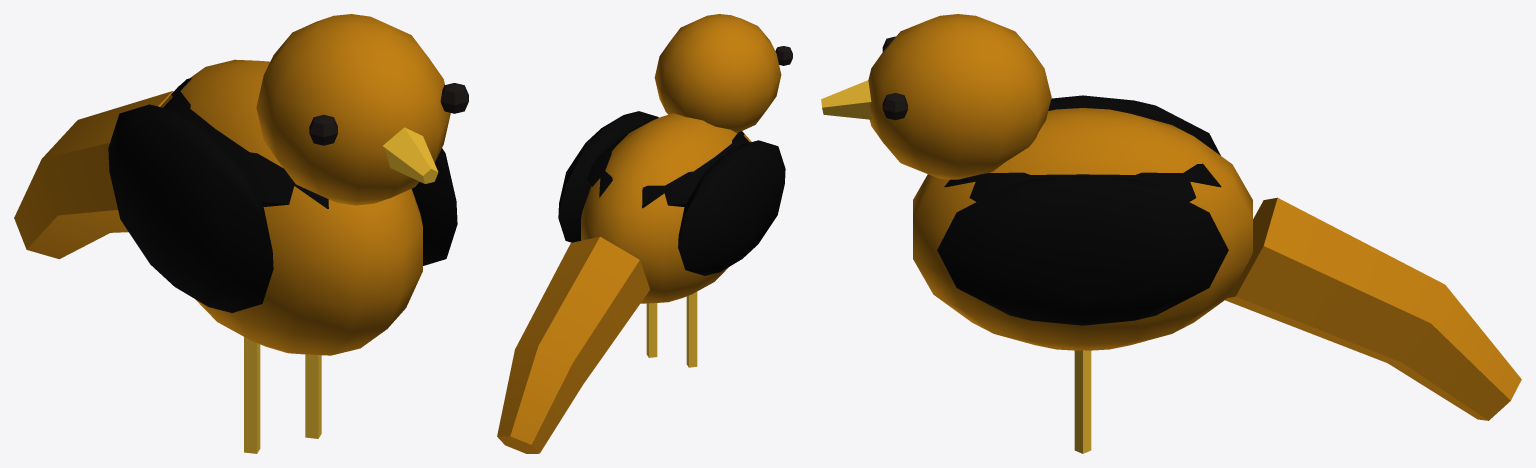
The model's file is hz-oriole.glb.
3 renders of one model, left to right at view 1: azimuth 30°, elevation 25°; view 2: azimuth 150°, elevation 25°; view 3: azimuth 270°, elevation 25°, orthographic. The views are drawn at different scales.
Visible parts, largest first — view 1: body__plumage, beak__beak, eye__eye; view 2: body__plumage, beak__beak; view 3: body__plumage, beak__beak.
Part boxes in pixels (x1=…): body__plumage: x1=14, y1=14, x2=457, y2=355; beak__beak: x1=244, y1=127, x2=438, y2=453; eye__eye: x1=309, y1=83, x2=468, y2=145; body__plumage: x1=497, y1=14, x2=785, y2=453; beak__beak: x1=646, y1=292, x2=697, y2=367; body__plumage: x1=868, y1=14, x2=1521, y2=420; beak__beak: x1=821, y1=80, x2=1091, y2=453.
Bounding box in the file's own units: 0.122 × 0.22 × 0.3363.
